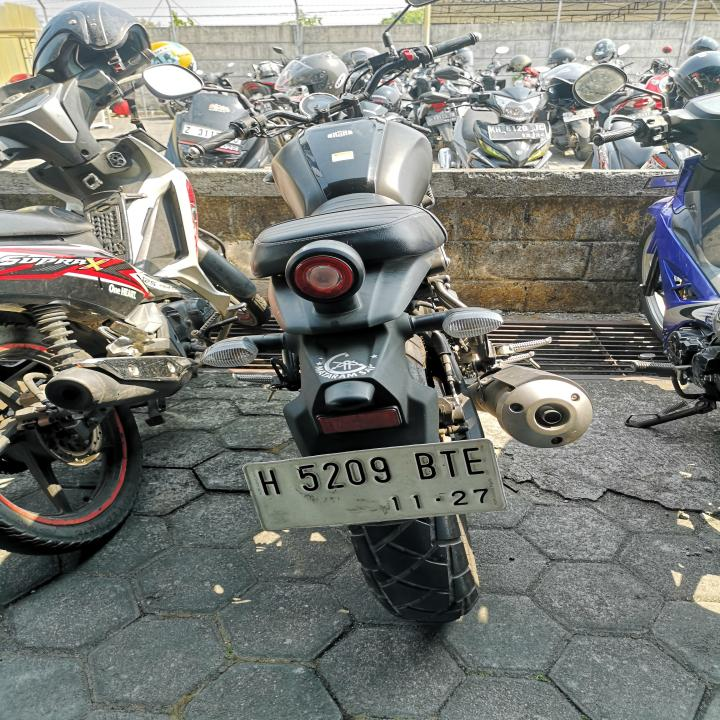plate: (239, 433, 511, 531), (487, 122, 549, 141)
